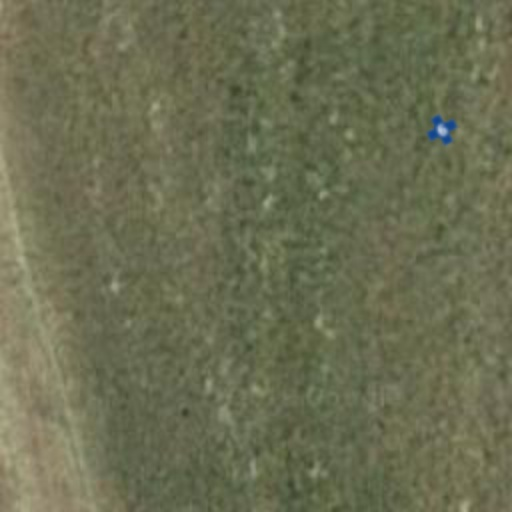cross: (420, 108, 464, 152)
